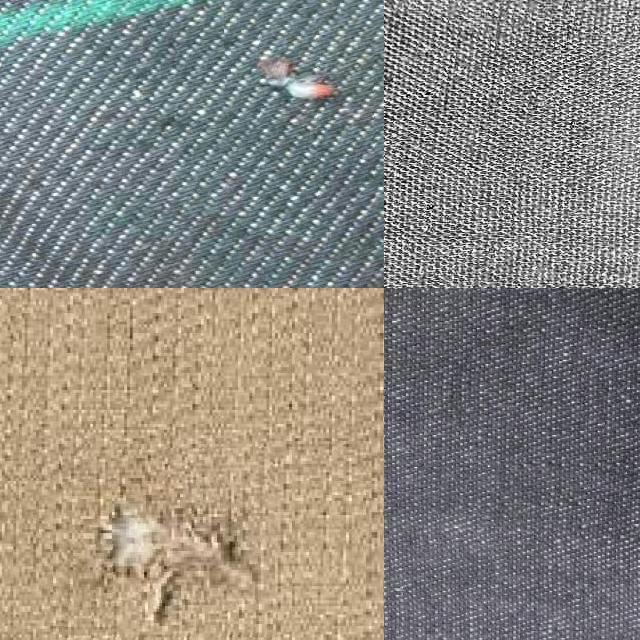Thread_other: (616, 0, 640, 276)
other: (62, 448, 276, 636)
stains: (225, 0, 384, 206)
